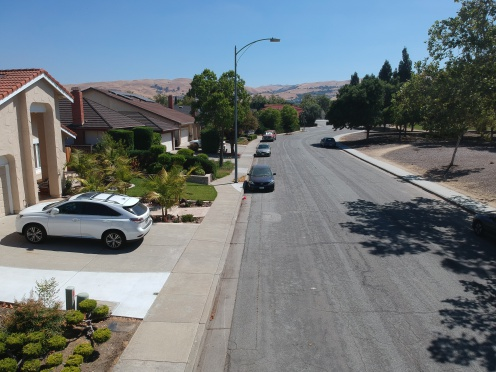plastic bag: (240, 191, 250, 204)
